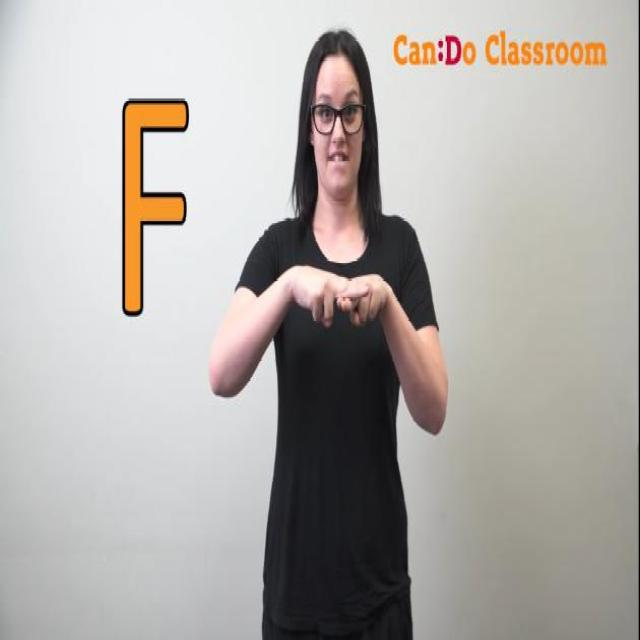F: (267, 232, 415, 356)
